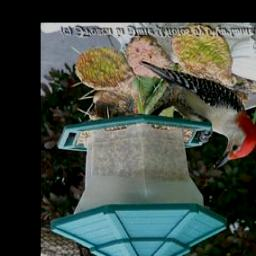Woodpecker: (138, 62, 256, 170)
